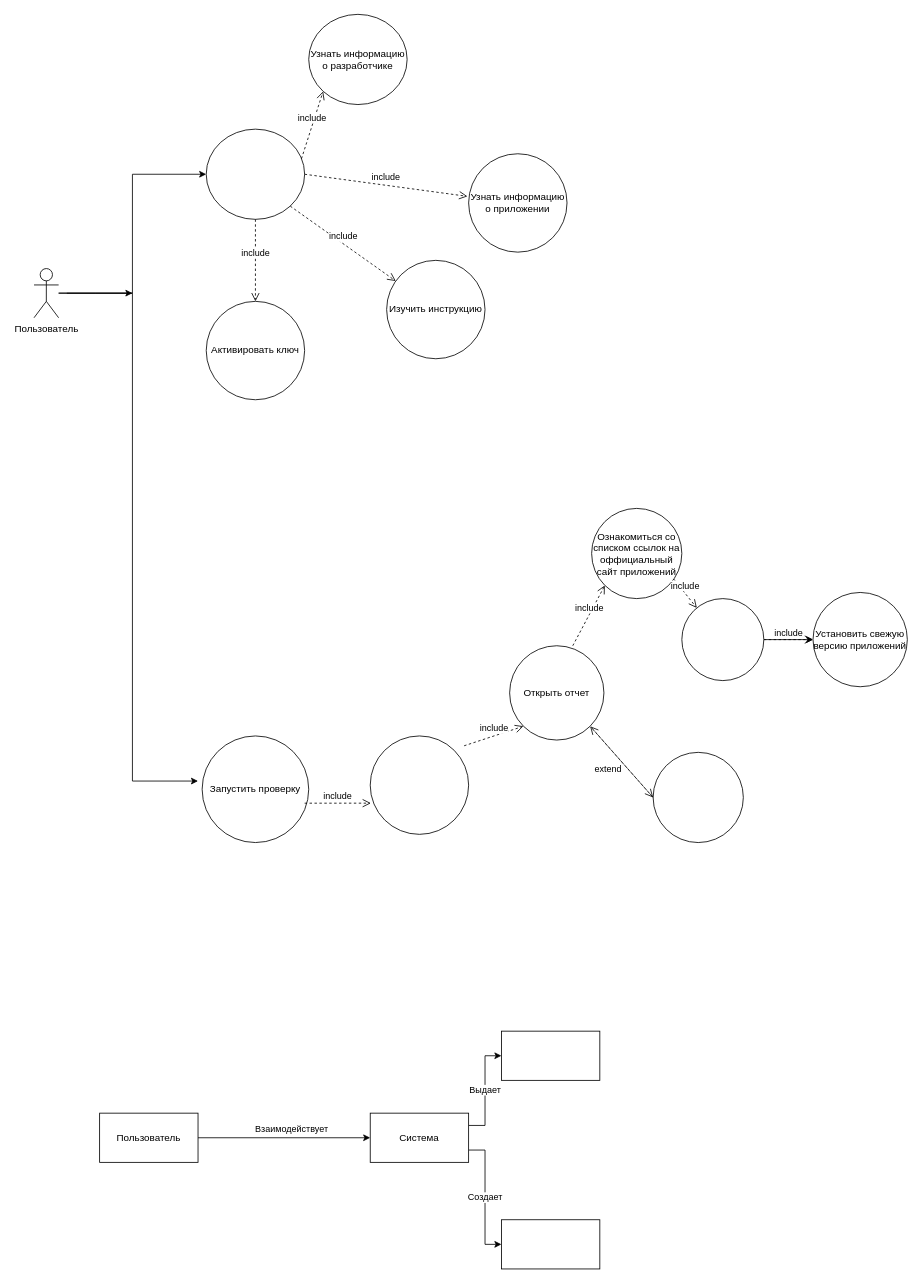
This 922x1283 diagram has some shape labels left out. The centre of each missing label's shape, as x and y in pixels:
Использовать настройки: point 255,173
Обновить приложения согласно отчету: point 722,639
Отчет: point 550,1244
Проверить отчет по выполненому сканированию: point 419,784
Сохранить отчет: point 697,797
Список ПО: point 550,1055
